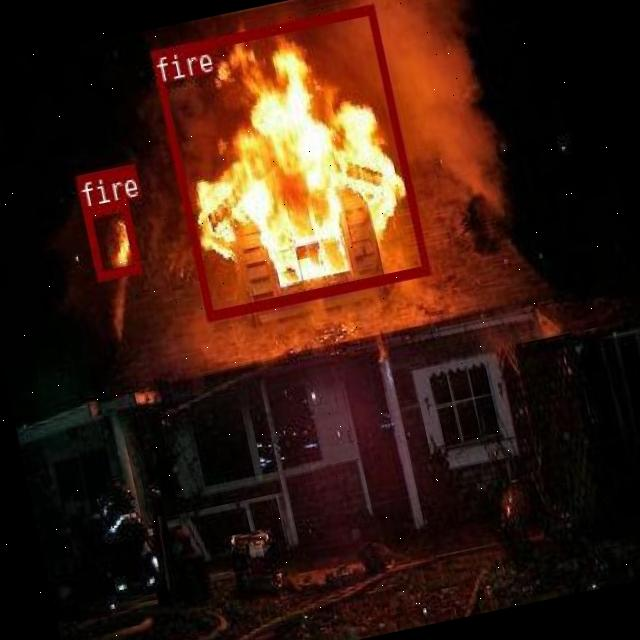fire: (149, 2, 430, 320), (81, 200, 140, 278)
